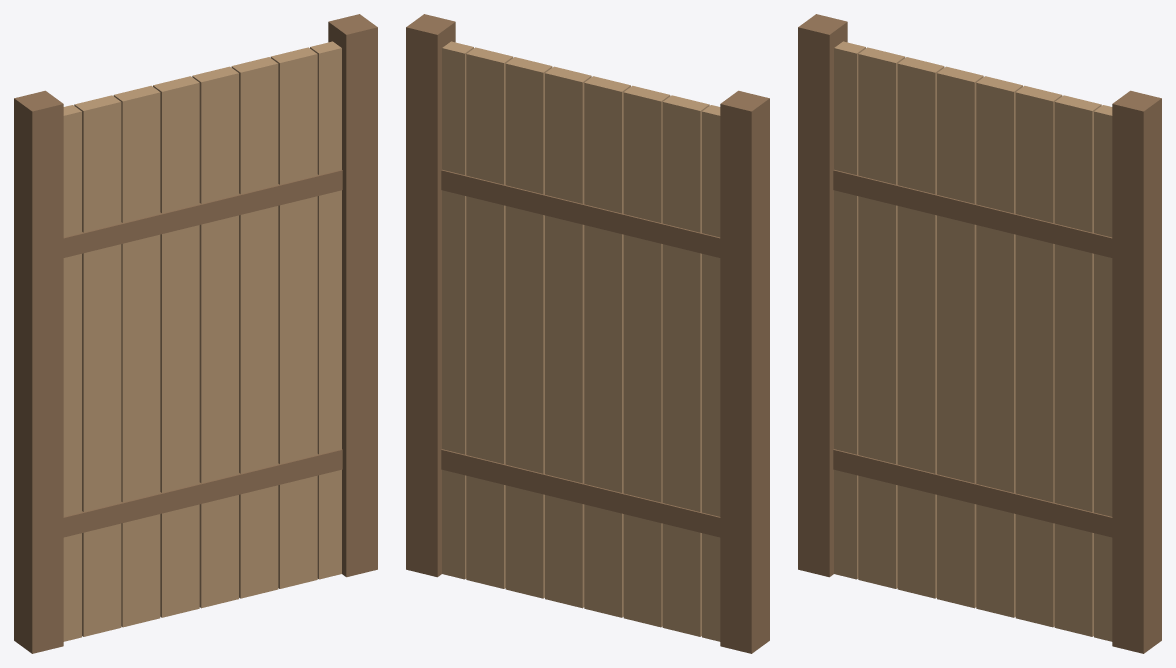
The model's file is fence_wood_straight.glb.
3 renders of one model, left to right at view 1: azimuth 30°, elevation 25°; view 2: azimuth 150°, elevation 25°; view 3: azimuth 330°, elevation 25°, orthographic.
Parts seen in each view (by area): view 1: fence_wood_straight; view 2: fence_wood_straight; view 3: fence_wood_straight.
Boxes of the visible parts, box(x1,y1,x2,y2) form: fence_wood_straight: box(14, 14, 377, 653); fence_wood_straight: box(406, 14, 769, 653); fence_wood_straight: box(798, 14, 1161, 653).
Bounding box in the file's own units: 1.1 × 1.65 × 0.1.
